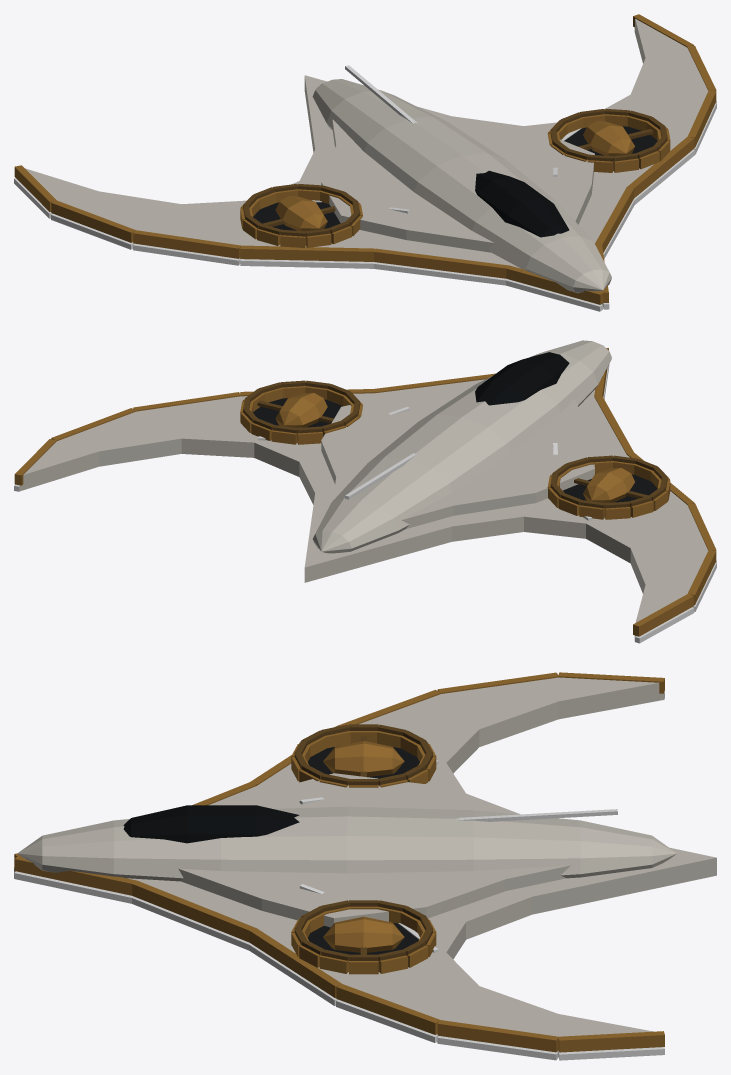
Rendered from bomber.glb.
The picture shows the model from 3 angles, top to bottom: view 1: azimuth 30°, elevation 25°; view 2: azimuth 150°, elevation 25°; view 3: azimuth 270°, elevation 25°; orthographic projection. The views are drawn at different scales.
Parts seen in each view (by area): view 1: body; view 2: body; view 3: body.
Boxes of the visible parts, x1,y1,x2,y2 form: body: [14, 14, 716, 311]; body: [14, 340, 716, 643]; body: [14, 672, 716, 1060].
Bounding box in the file's own units: 13.22 × 1.41 × 10.65.
